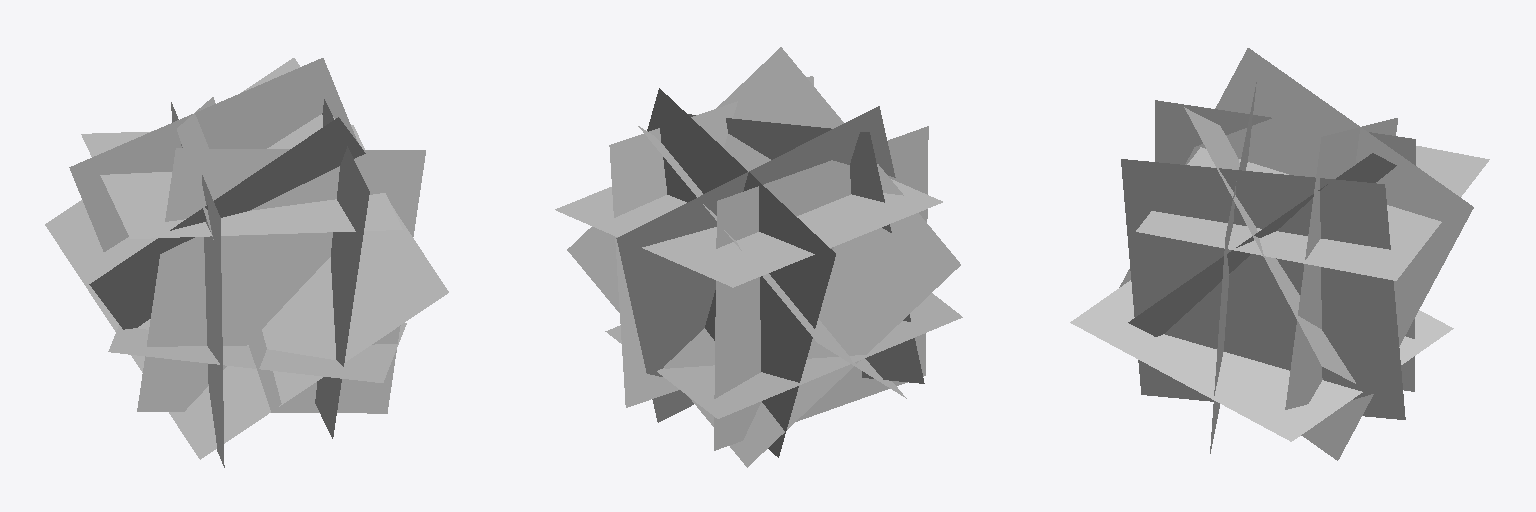
File: spruce_leaves.obj
3 renders of one model, left to right at view 1: azimuth 30°, elevation 25°; view 2: azimuth 150°, elevation 25°; view 3: azimuth 270°, elevation 25°, orthographic.
Parts seen in each view (by area): view 1: west, east, south, top, bottom, north; view 2: south, east, north, top, west, bottom; view 3: south, east, bottom, top, west, north.
Boxes of the visible parts, x1,y1,x2,y2 form: west: [45, 58, 448, 459]; east: [69, 58, 357, 412]; south: [89, 99, 369, 438]; top: [81, 125, 402, 238]; bottom: [108, 323, 406, 382]; north: [171, 102, 224, 467]; south: [567, 47, 960, 467]; east: [616, 88, 895, 457]; north: [714, 126, 928, 450]; top: [555, 179, 942, 287]; west: [638, 114, 924, 398]; bottom: [605, 293, 962, 418]; south: [1121, 107, 1405, 419]; east: [1119, 48, 1473, 460]; bottom: [1070, 280, 1453, 441]; top: [1136, 146, 1489, 280]; west: [1128, 82, 1396, 453]; north: [1155, 100, 1415, 391].
Size of the model in its own units: 2.25 by 1.98 by 2.27.